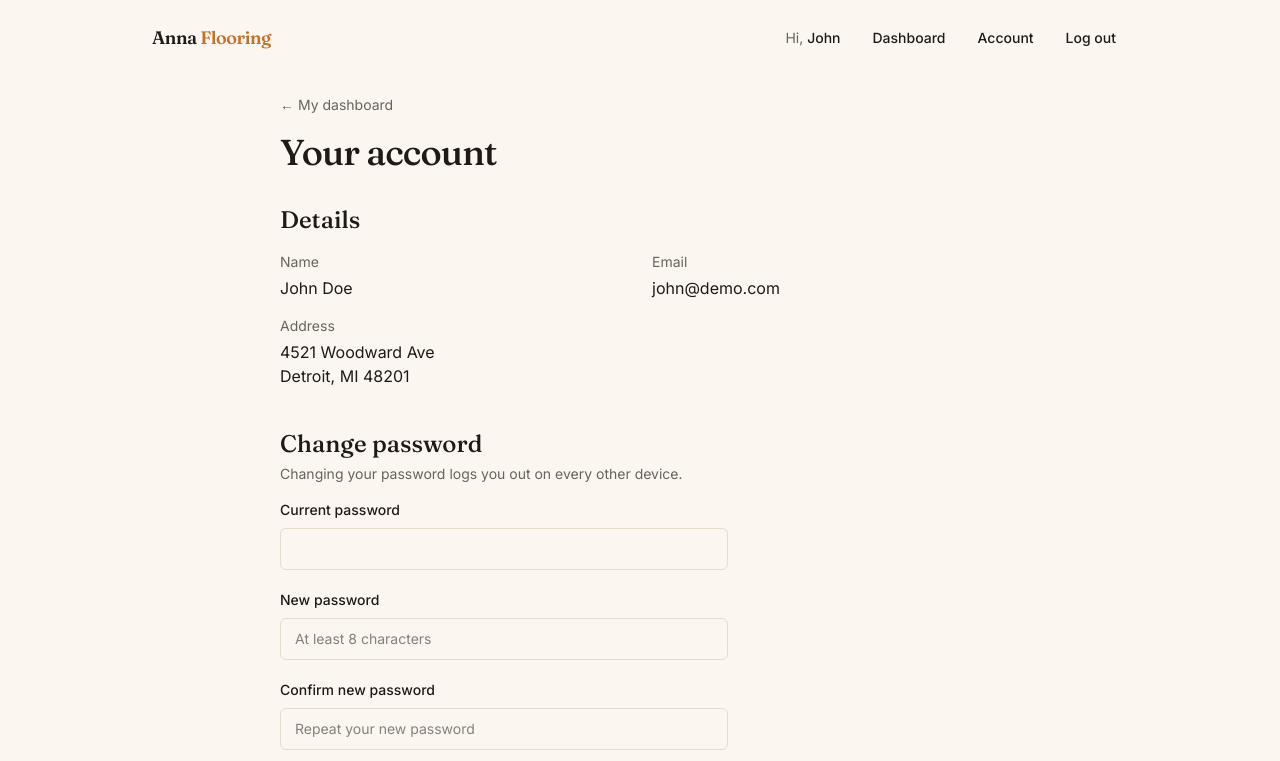
Scenario: ClientAccount › shows a wrong current password under its field
This screenshot has width=1280, height=761.
Type "not-my-password" into the password field labelled "Current password" at [504, 549], box [280, 528, 728, 570]
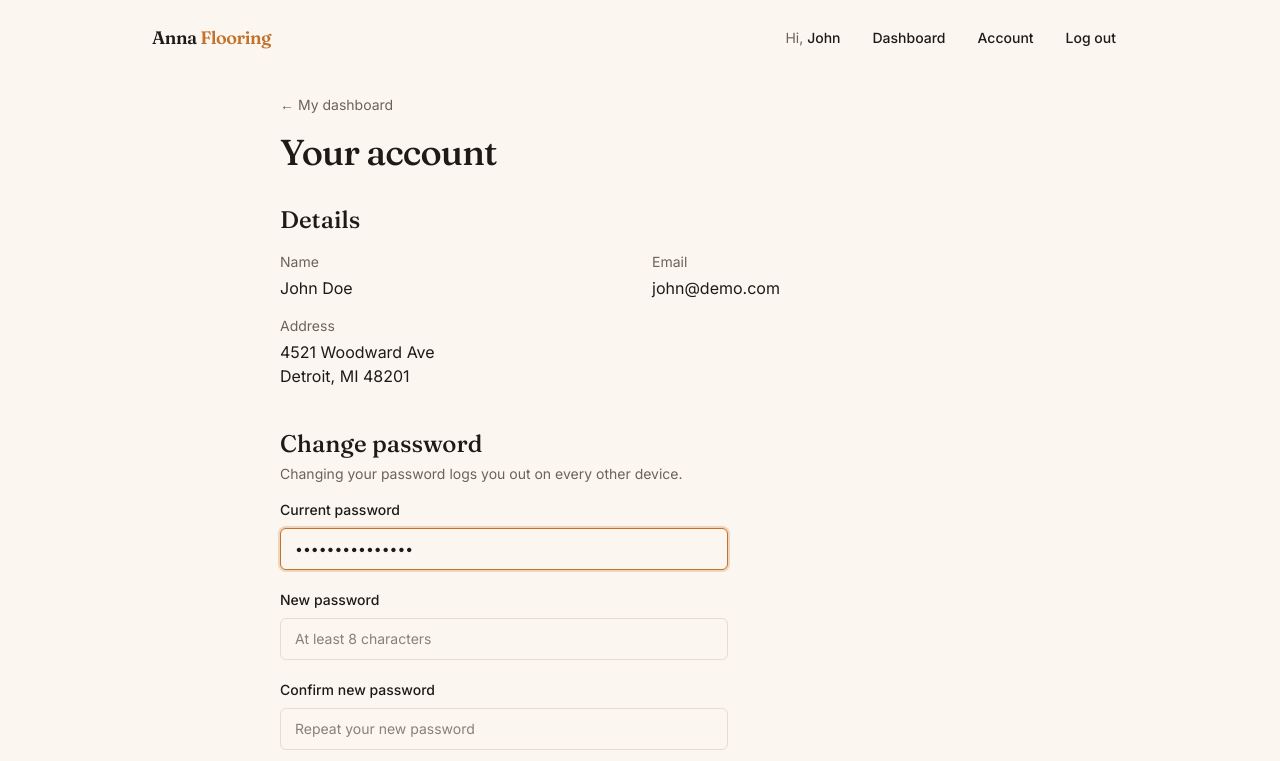
Type "NewPassword456" into the password field labelled "New password" at [504, 639], box [280, 618, 728, 660]
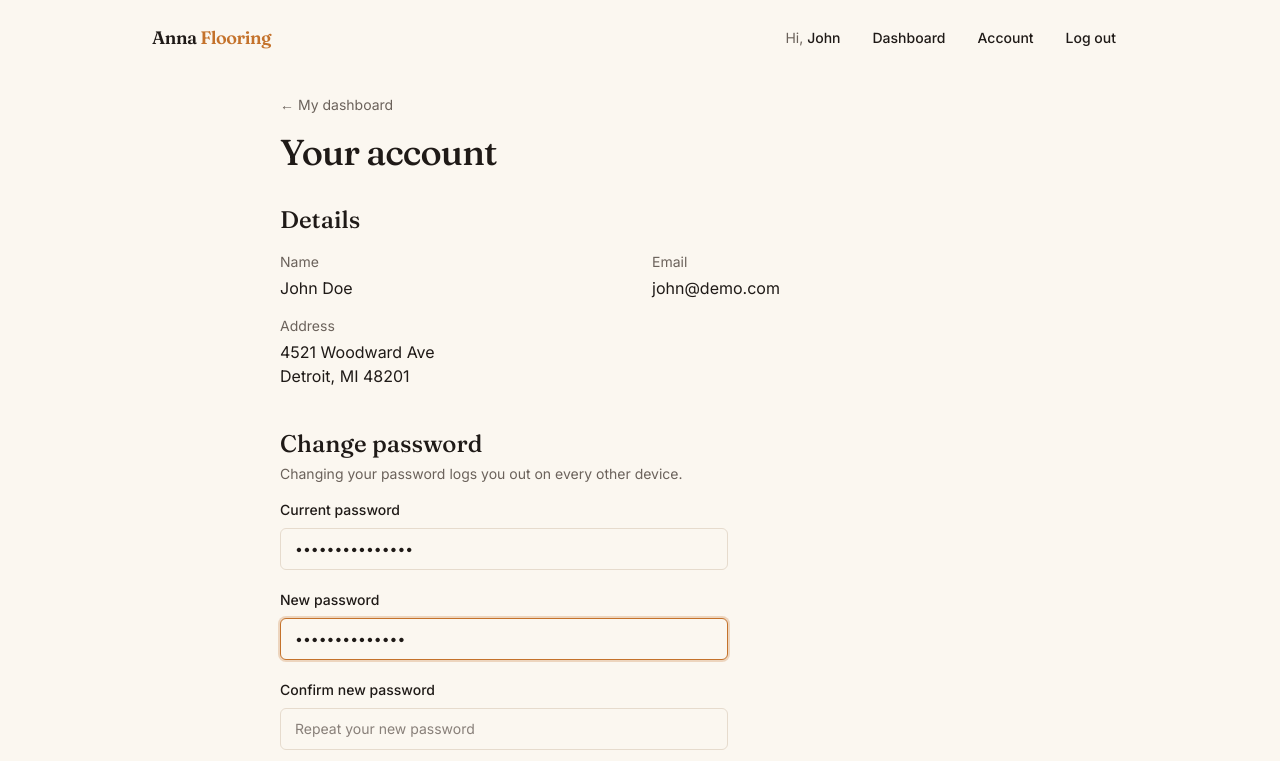
Type "NewPassword456" into the password field labelled "Confirm new password" at [504, 729], box [280, 708, 728, 750]
(page scrolled)
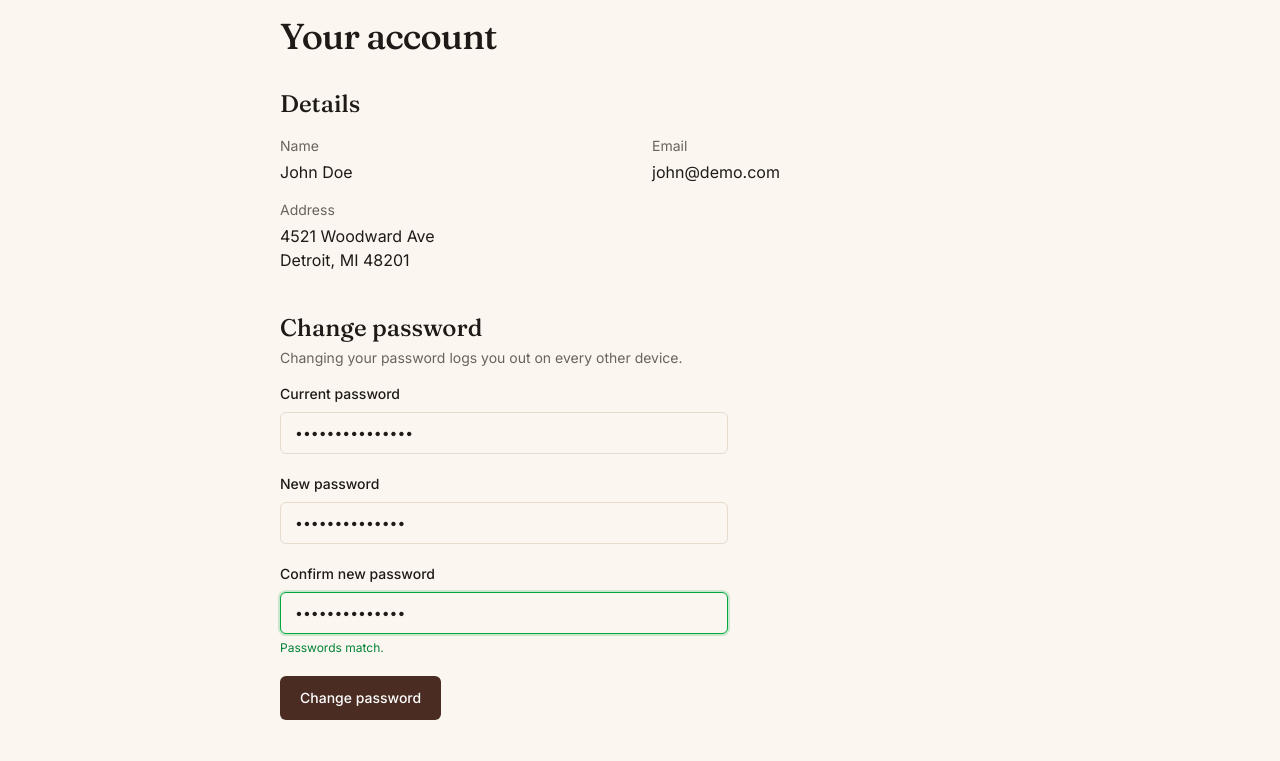
Click the button "Change password" at [361, 698], box [280, 676, 441, 720]
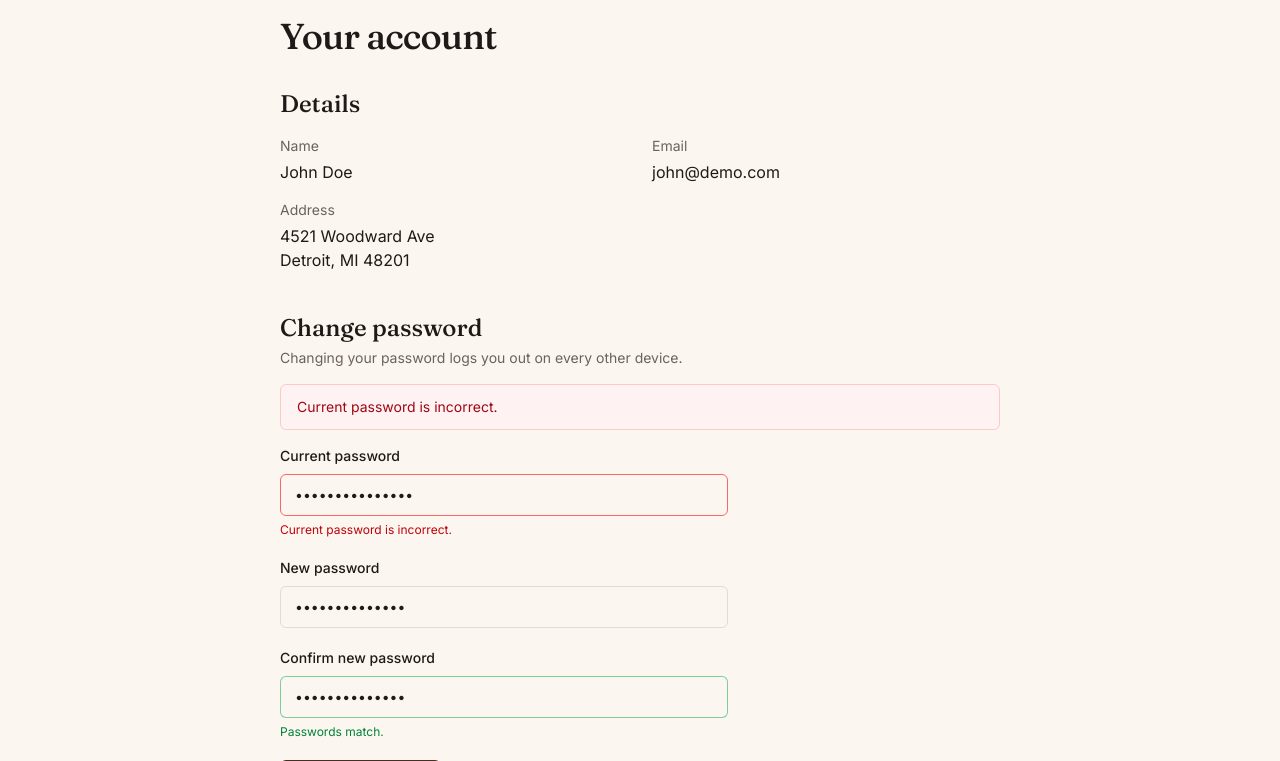
Result: the message reads "Current password is incorrect." at [297, 398, 498, 415]
